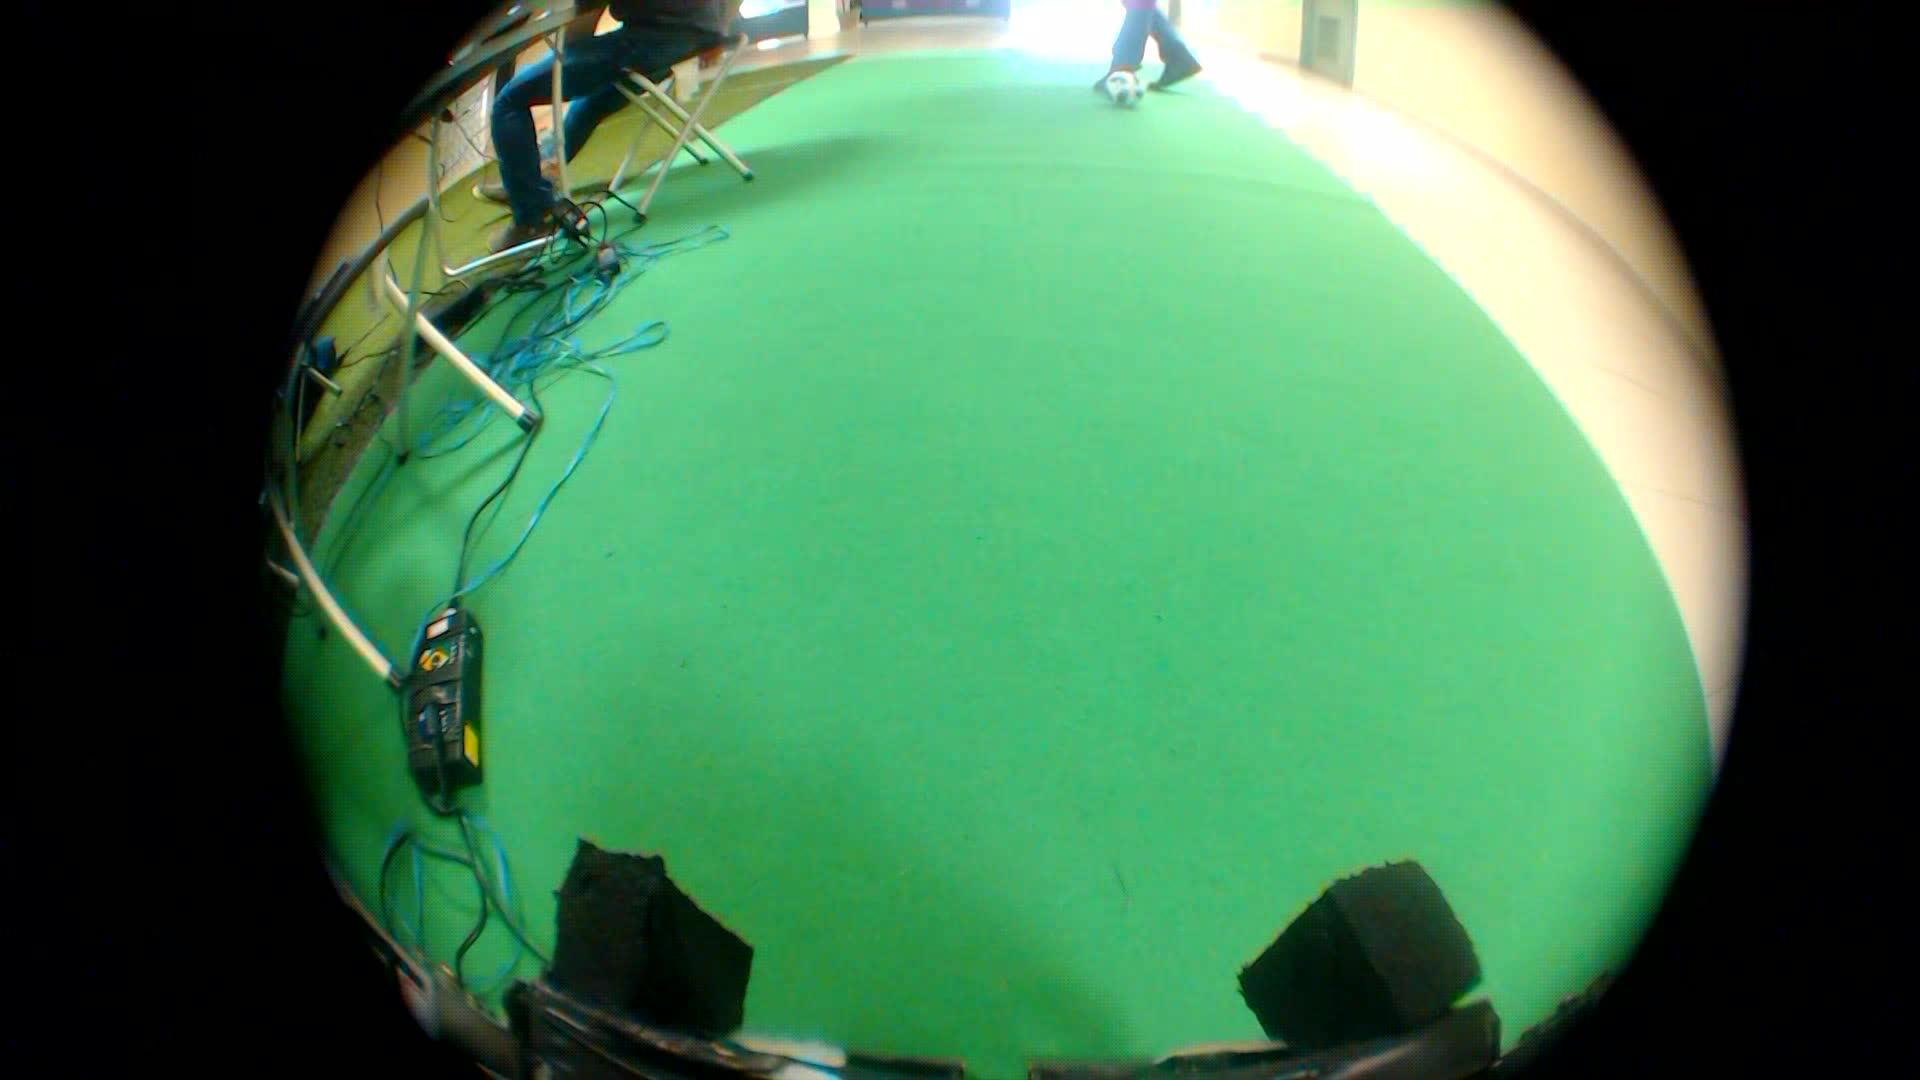ball: (1093, 61, 1147, 117)
